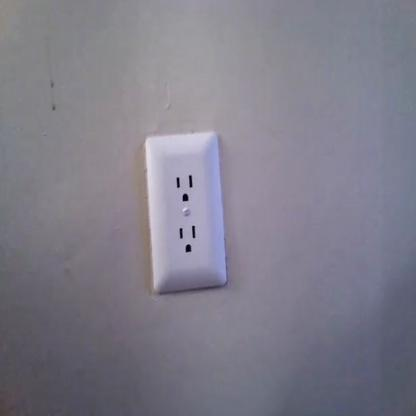OUTLET: (145, 135, 226, 287)
